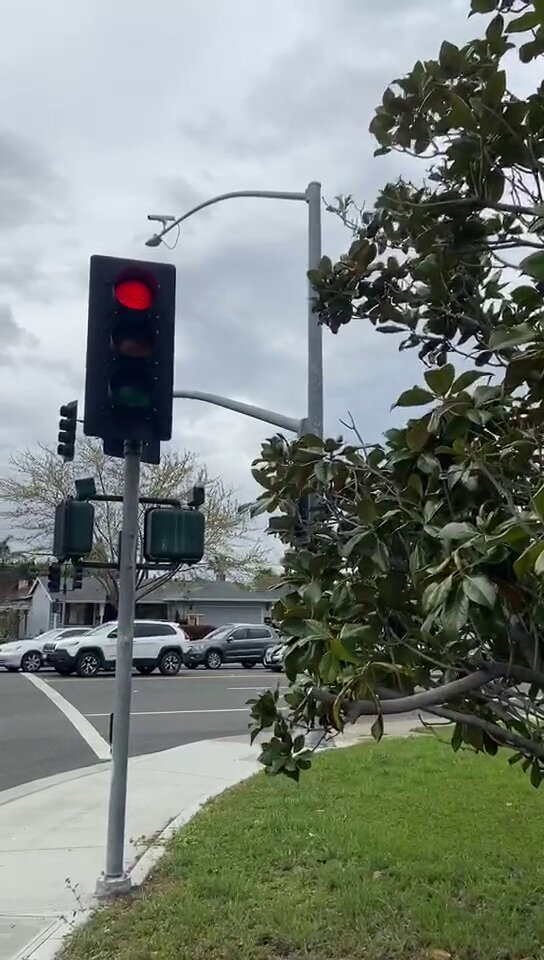red_light: (93, 268, 173, 436)
